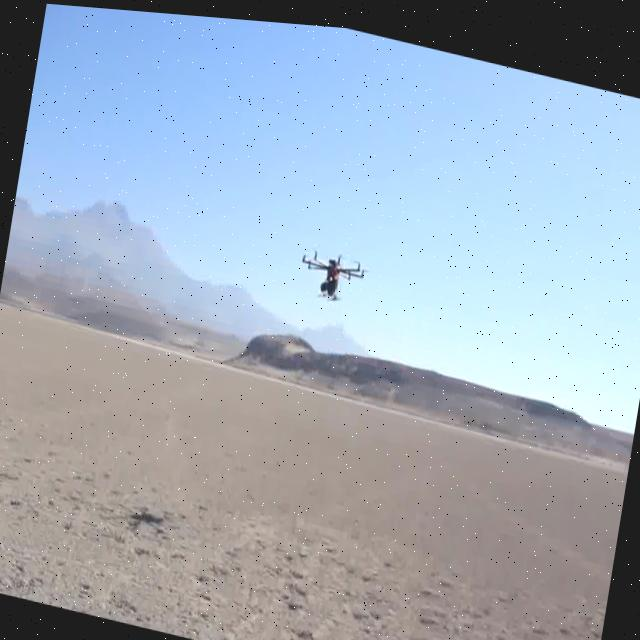drone: (0, 456, 607, 640)
